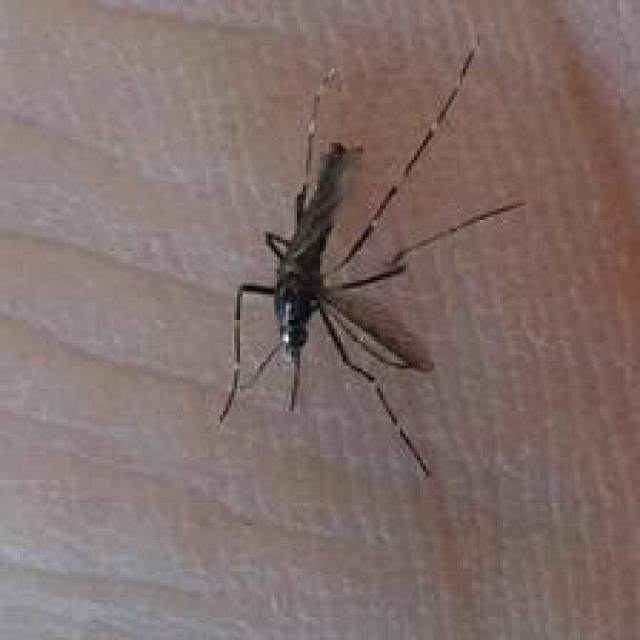Aedes albopictus: (217, 36, 526, 478)
